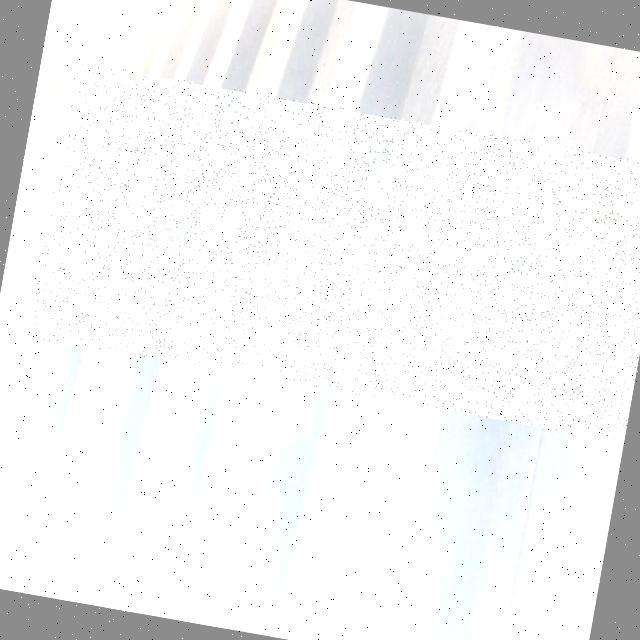Dent: (27, 60, 640, 441)
